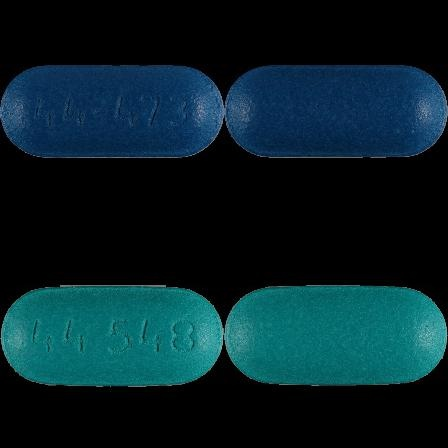50844-529: (0, 0, 224, 224)
